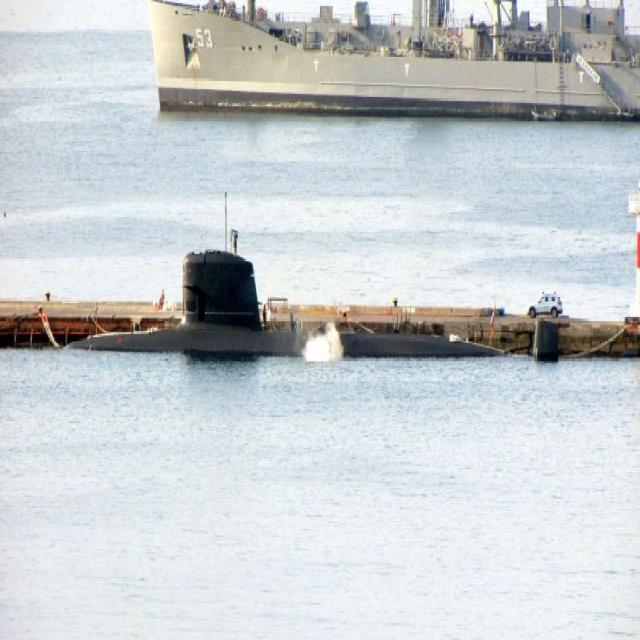submarine: (64, 249, 591, 355)
